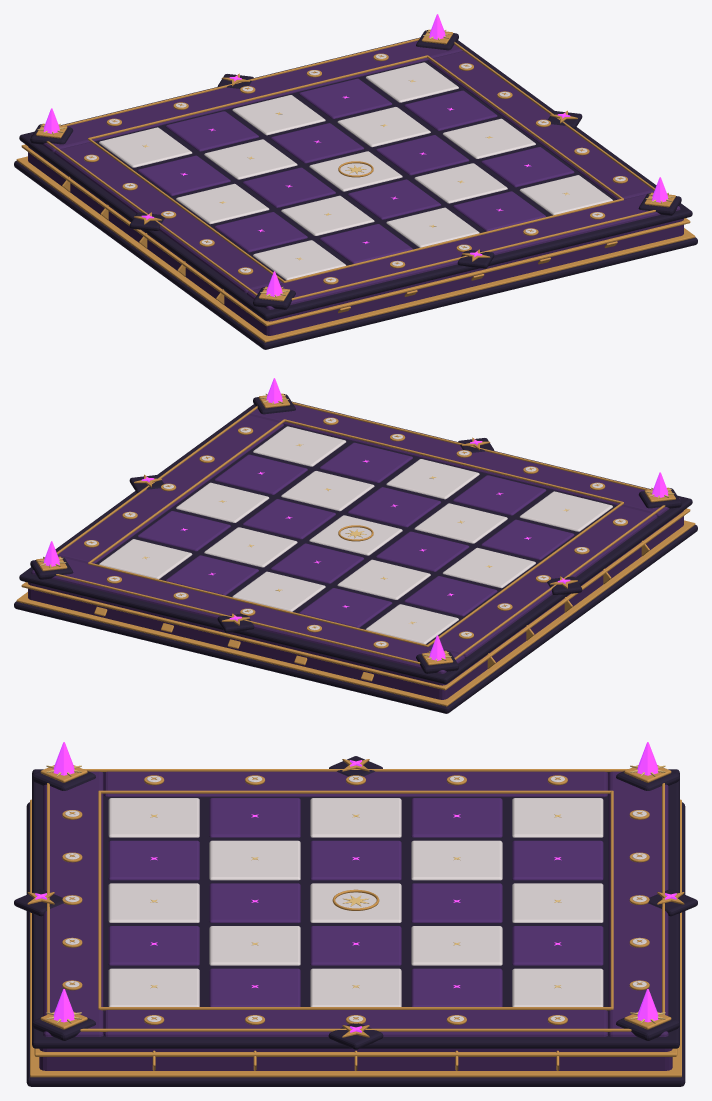
Rendered from queens_trial_board.glb.
3 renders of one model, top to bottom at view 1: azimuth 30°, elevation 25°; view 2: azimuth 150°, elevation 25°; view 3: azimuth 270°, elevation 25°, orthographic. The views are drawn at different scales.
Parts seen in each view (by area): view 1: Playable_Recess, Foundation_Main, Foundation_Upper_Ledge, Top_Border_South, Top_Border_North, Top_Border_West, Top_Border_East, Foundation_Lower_Ledge, Foundation_Lower_Gold_Trim, Foundation_Gold_Band, Tile_0_0, Tile_1_1 (+31 smaller); view 2: Playable_Recess, Foundation_Upper_Ledge, Foundation_Main, Top_Border_North, Top_Border_South, Top_Border_West, Top_Border_East, Foundation_Lower_Ledge, Foundation_Lower_Gold_Trim, Foundation_Gold_Band, Tile_0_4, Tile_1_3 (+31 smaller); view 3: Playable_Recess, Foundation_Upper_Ledge, Top_Border_North, Top_Border_South, Top_Border_East, Top_Border_West, Foundation_Main, Foundation_Lower_Ledge, Foundation_Lower_Gold_Trim, Tile_1_1, Tile_1_3, Tile_1_0 (+38 smaller).
Part boxes in pixels (<box>): Playable_Recess: <box>95,60,616,280</box>; Foundation_Main: <box>28,146,683,335</box>; Foundation_Upper_Ledge: <box>19,37,692,320</box>; Top_Border_South: <box>247,192,680,309</box>; Top_Border_North: <box>31,40,462,152</box>; Top_Border_West: <box>54,142,282,292</box>; Top_Border_East: <box>428,51,654,199</box>; Foundation_Lower_Ledge: <box>14,161,697,349</box>; Foundation_Lower_Gold_Trim: <box>16,156,695,342</box>; Foundation_Gold_Band: <box>21,144,690,326</box>; Tile_0_0: <box>99,127,192,167</box>; Tile_1_1: <box>204,139,297,179</box>; Playable_Recess: <box>95,424,616,644</box>; Foundation_Upper_Ledge: <box>19,401,692,684</box>; Foundation_Main: <box>28,510,683,699</box>; Top_Border_North: <box>31,556,464,673</box>; Top_Border_South: <box>249,404,680,516</box>; Top_Border_West: <box>429,506,657,656</box>; Top_Border_East: <box>57,415,283,563</box>; Foundation_Lower_Ledge: <box>14,525,697,713</box>; Foundation_Lower_Gold_Trim: <box>16,520,695,706</box>; Foundation_Gold_Band: <box>21,508,690,690</box>; Tile_0_4: <box>519,491,612,531</box>; Tile_1_3: <box>414,503,507,543</box>; Playable_Recess: <box>103,795,608,1012</box>; Foundation_Upper_Ledge: <box>32,769,679,1048</box>; Top_Border_North: <box>608,771,668,1036</box>; Top_Border_South: <box>43,771,103,1036</box>; Top_Border_East: <box>103,1010,608,1036</box>; Top_Border_West: <box>103,771,608,796</box>; Foundation_Main: <box>39,1048,672,1070</box>; Foundation_Lower_Ledge: <box>26,802,685,1086</box>; Foundation_Lower_Gold_Trim: <box>30,799,681,1077</box>; Tile_1_1: <box>411,840,502,880</box>; Tile_1_3: <box>209,840,300,880</box>; Tile_1_0: <box>512,840,603,880</box>.
Bounding box in the file's own units: 37.96 × 9.81 × 37.96.
